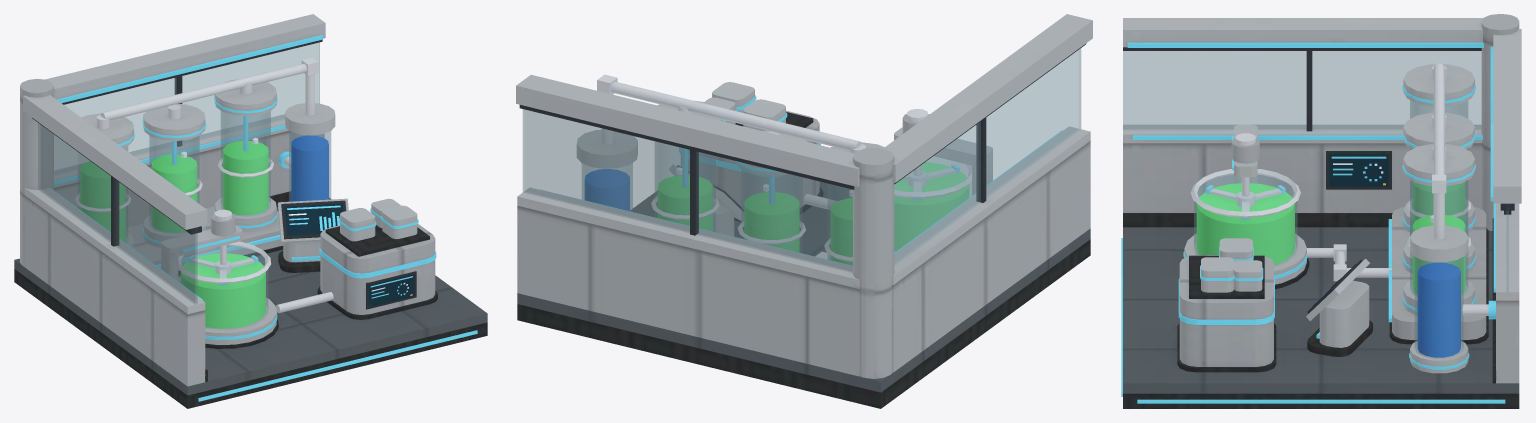
Rendered from protein_synthesizer.glb.
The picture shows the model from 3 angles, left to right: view 1: azimuth 30°, elevation 25°; view 2: azimuth 150°, elevation 25°; view 3: azimuth 270°, elevation 25°; orthographic projection. The views are drawn at different scales.
Visible parts, largest first — view 1: te_protein_synthesizer, move_rotor; view 2: te_protein_synthesizer, move_rotor; view 3: te_protein_synthesizer, move_rotor.
Boxes of the visible parts, x1,y1,x2,y2 form: te_protein_synthesizer: (14,14,487,408); move_rotor: (188,245,258,285); te_protein_synthesizer: (516,14,1092,408); move_rotor: (903,164,959,199); te_protein_synthesizer: (1121,14,1521,408); move_rotor: (1205,177,1285,219).
Bounding box in the file's own units: 0.849 × 0.532 × 0.849.
2 materials, 1 textured.
